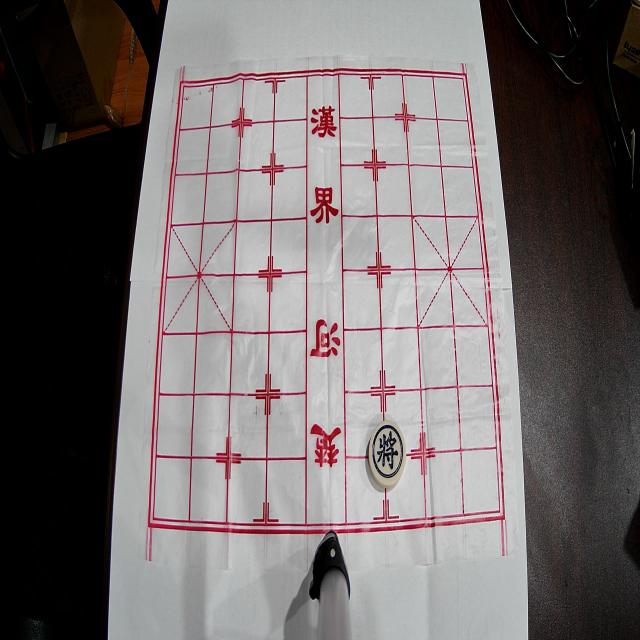black-general: (368, 420, 406, 488)
